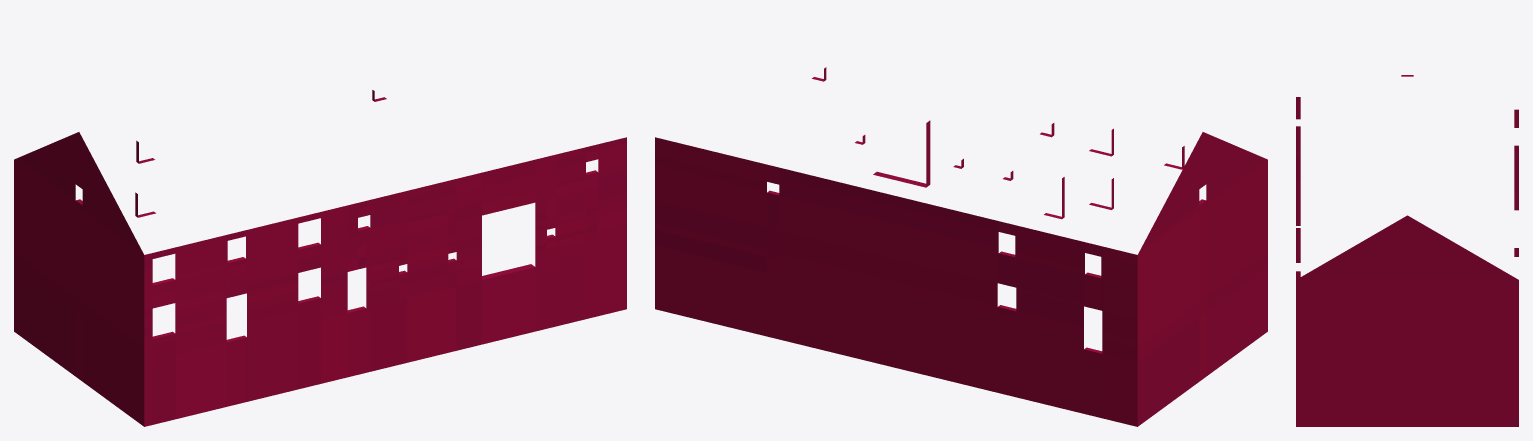
Rendered from SM_Bld_219_Masonry.glb.
The picture shows the model from 3 angles, left to right: view 1: azimuth 30°, elevation 25°; view 2: azimuth 150°, elevation 25°; view 3: azimuth 270°, elevation 25°; orthographic projection. The views are drawn at different scales.
Parts seen in each view (by area): view 1: SM_Bld_219_Masonry; view 2: SM_Bld_219_Masonry; view 3: SM_Bld_219_Masonry.
Boxes of the visible parts, <box> form: SM_Bld_219_Masonry: <box>14,90,626,426</box>; SM_Bld_219_Masonry: <box>655,67,1267,426</box>; SM_Bld_219_Masonry: <box>1296,75,1518,426</box>.
Size of the model in its own units: 23.49 by 11.51 by 10.99.
